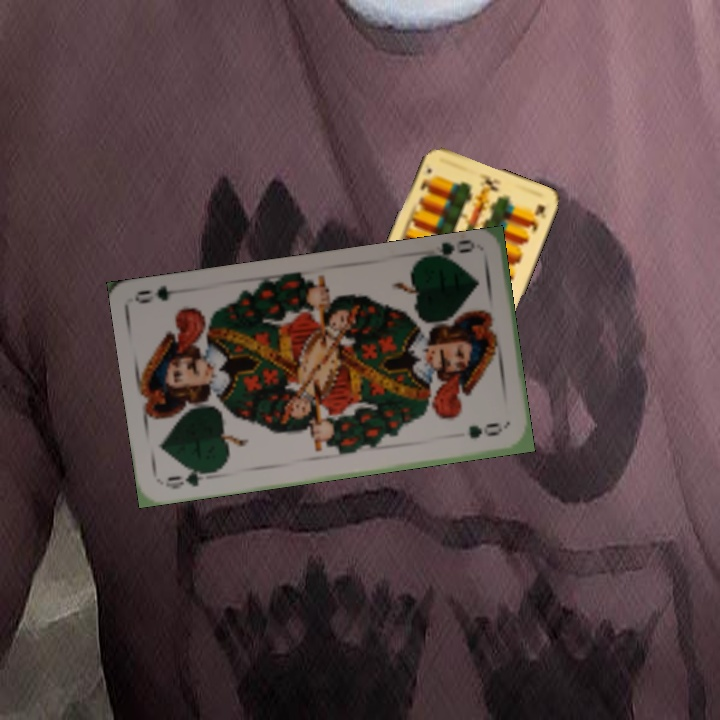E10: (416, 164, 434, 194)
GO: (421, 237, 477, 267), (161, 463, 218, 492)
